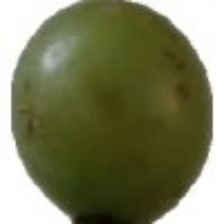grapes: (43, 26, 197, 203)
